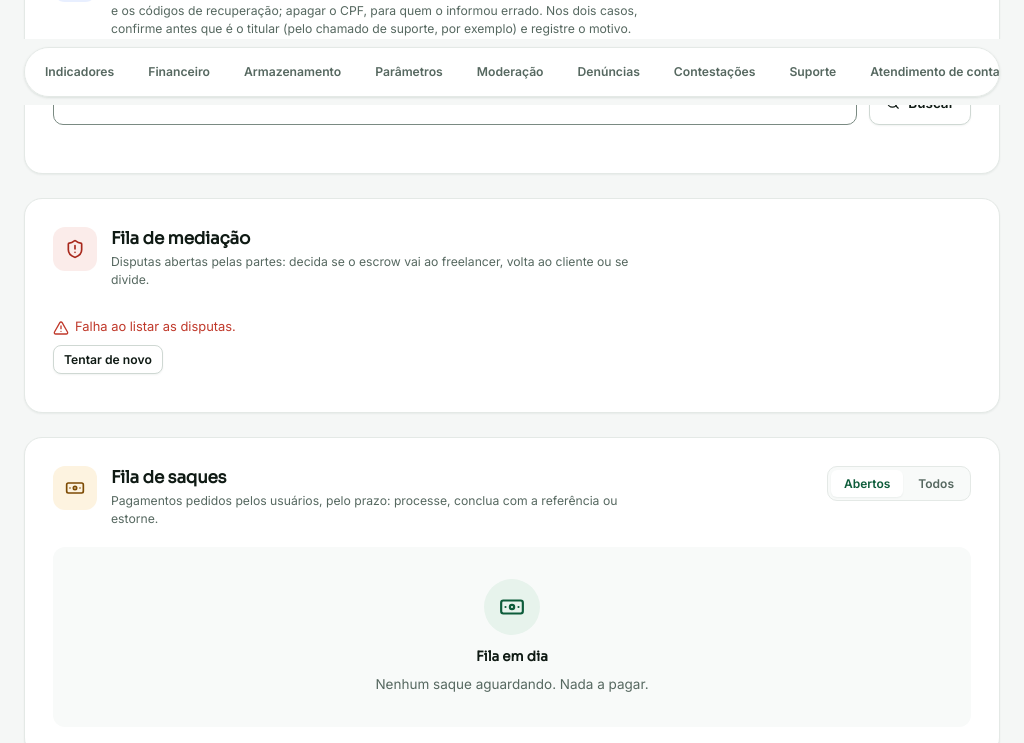
Scenario: AdminView: números e estados das filas › falha numa fila: o erro aparece só nela e "Tentar de novo" busca outra vez
(page scrolled)
Expected: the message shows "Falha ao listar as disputas.", [75, 319, 236, 334]
Click the button "Tentar de novo".
click(108, 360)  # box [53, 345, 163, 374]
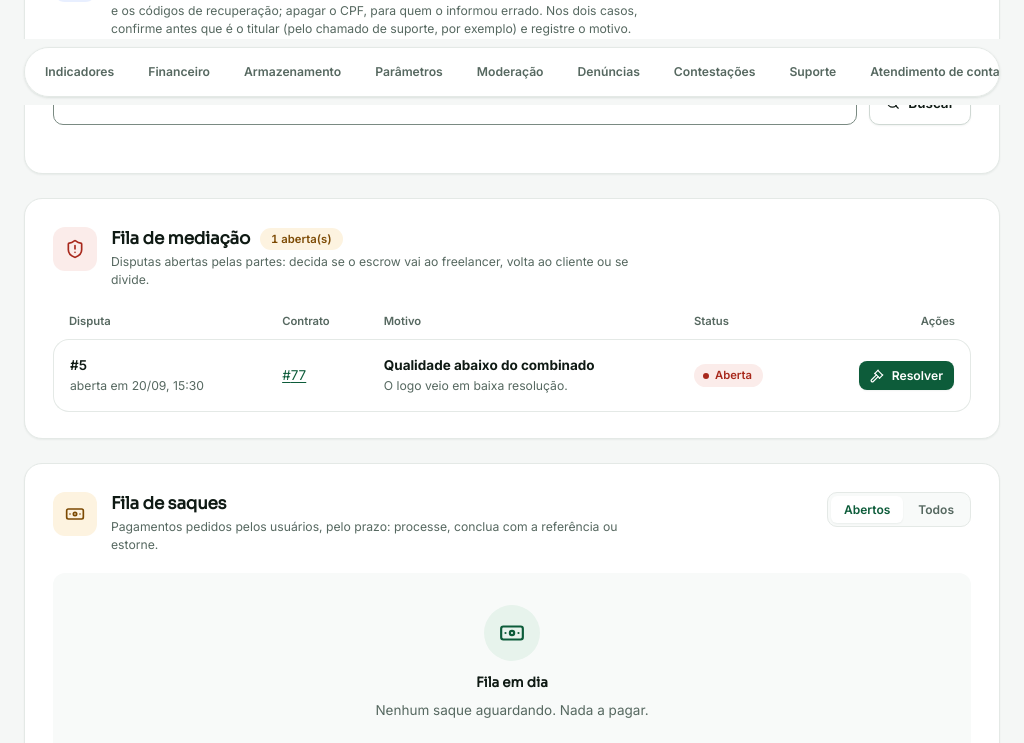
Result: the row that starts with "aberta em" is shown at [53, 339, 971, 412]
